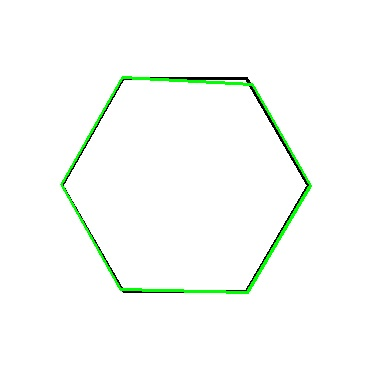line_segment: (61, 76, 311, 294)
